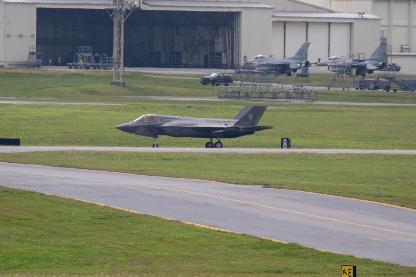F14: (239, 41, 318, 75), (314, 42, 392, 76)
F22: (115, 104, 273, 147)
